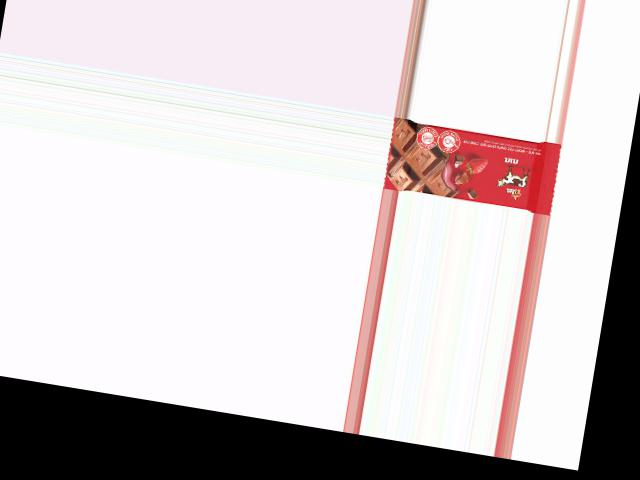chocolate: (384, 116, 563, 215)
